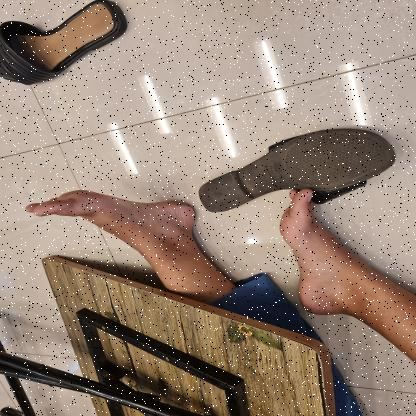leg: (264, 182, 416, 365), (14, 181, 234, 299)
